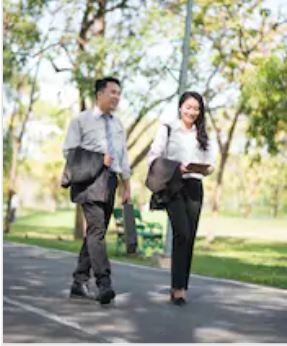Caution: (60, 77, 215, 307)
